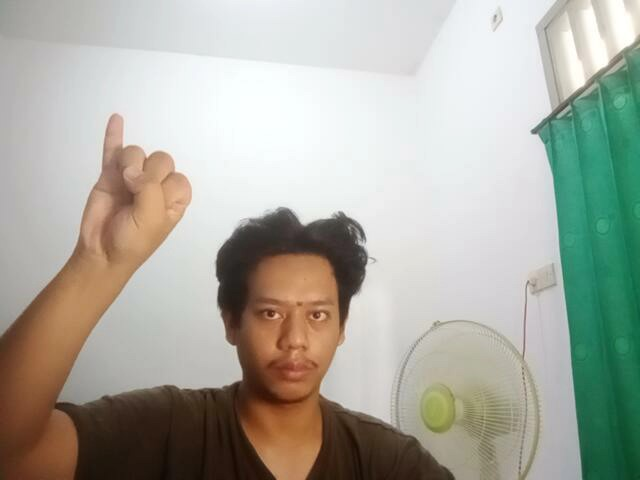I: (66, 108, 203, 275)
